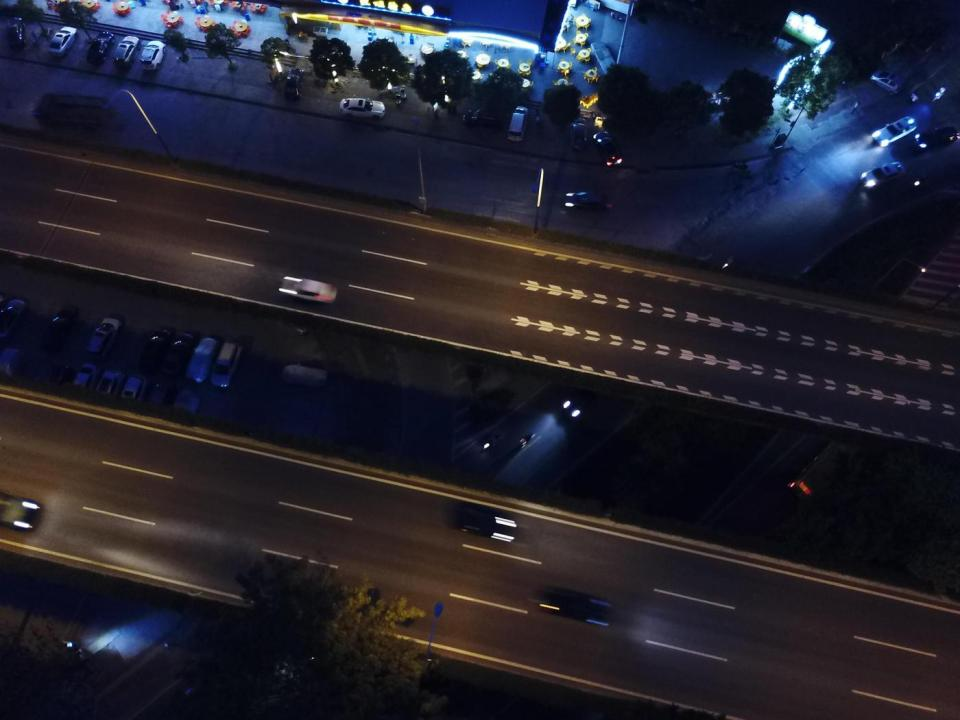car: (789, 432, 868, 509), (537, 584, 614, 632), (560, 368, 613, 427), (449, 500, 519, 544), (277, 274, 340, 304), (43, 303, 80, 351), (209, 340, 244, 389), (86, 316, 123, 362), (871, 114, 919, 149), (859, 161, 906, 195), (140, 328, 173, 373), (185, 337, 218, 382), (168, 330, 198, 376), (915, 121, 960, 151), (279, 362, 329, 388), (0, 297, 29, 341), (595, 128, 624, 169), (562, 188, 608, 212), (0, 347, 28, 385), (122, 372, 150, 410), (73, 360, 99, 400), (339, 97, 386, 119), (96, 368, 123, 405), (872, 65, 906, 94), (86, 31, 114, 66), (147, 378, 175, 413), (462, 108, 502, 132), (47, 362, 76, 395), (49, 26, 78, 58), (506, 104, 529, 144), (173, 388, 199, 423), (113, 36, 139, 70), (570, 114, 592, 154), (141, 40, 166, 71), (6, 16, 28, 51), (284, 68, 305, 101)
truck: (32, 92, 117, 135)
